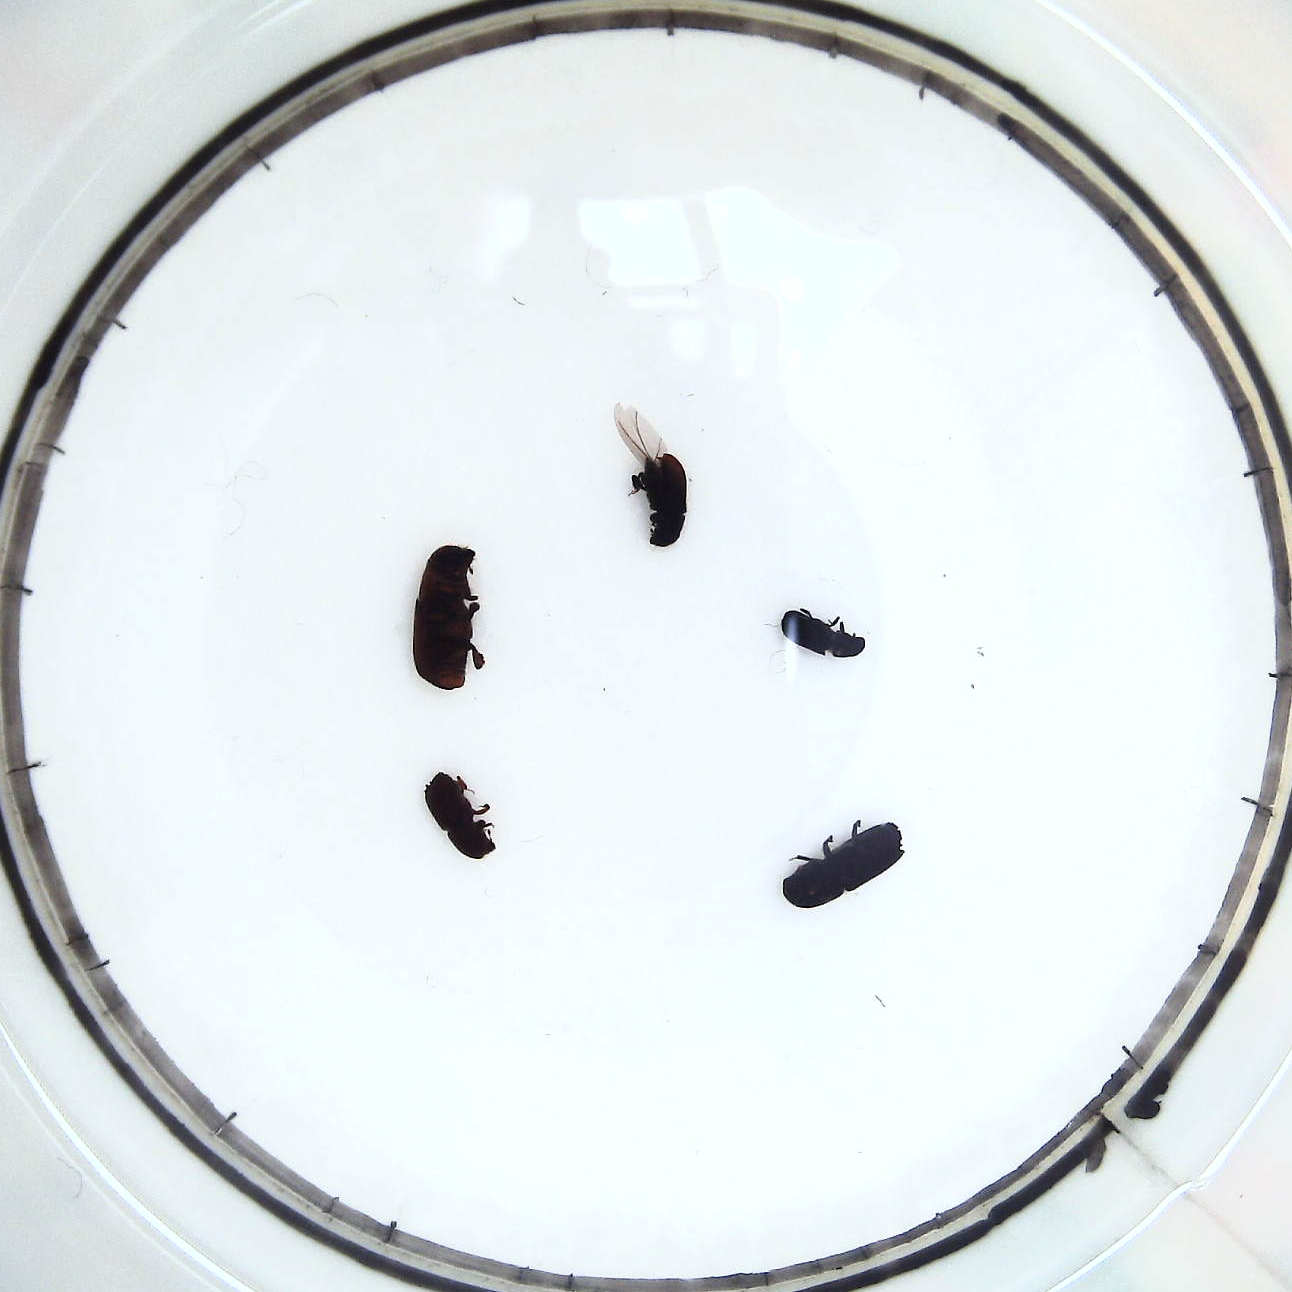Boerner: (776, 816, 915, 912)
Leconte: (408, 538, 491, 699)
armandi: (611, 402, 693, 553)
coleoptera: (774, 599, 871, 663)
linnaeus: (416, 770, 503, 863)
